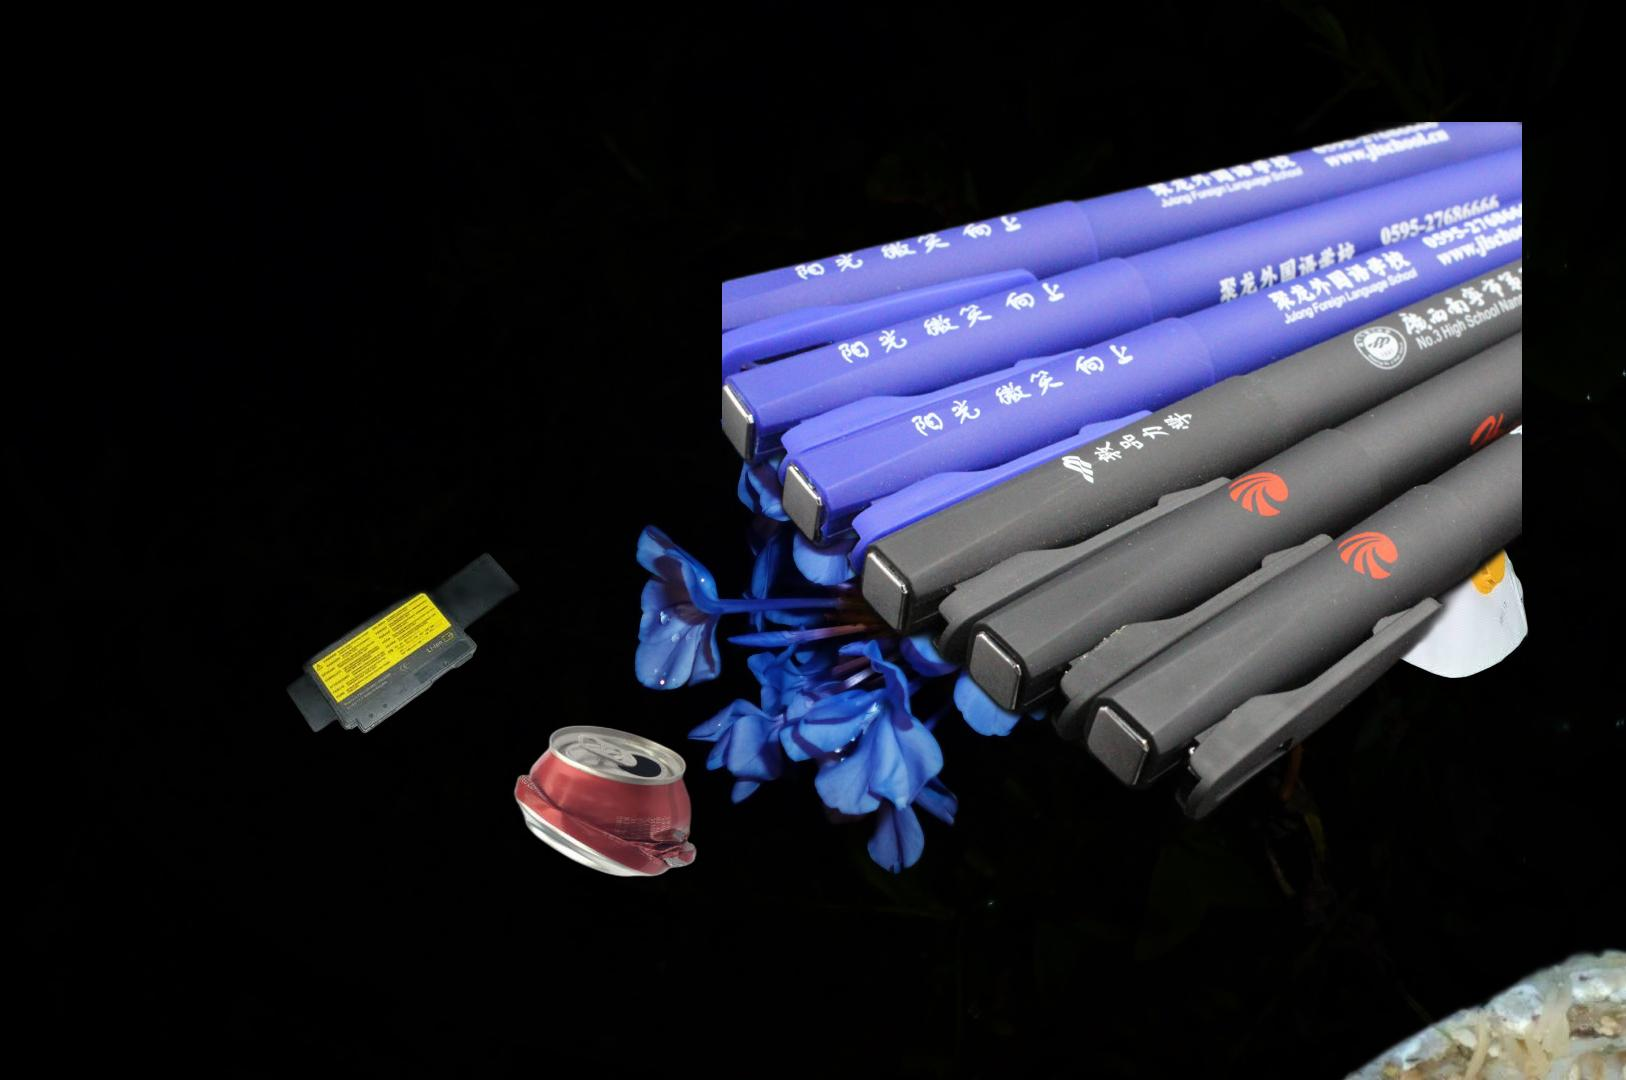battery: (274, 548, 526, 742)
biological: (1145, 935, 1626, 1080)
metal-cans: (509, 722, 702, 877)
penholder: (722, 122, 1522, 843)
trash: (1358, 471, 1531, 681)
